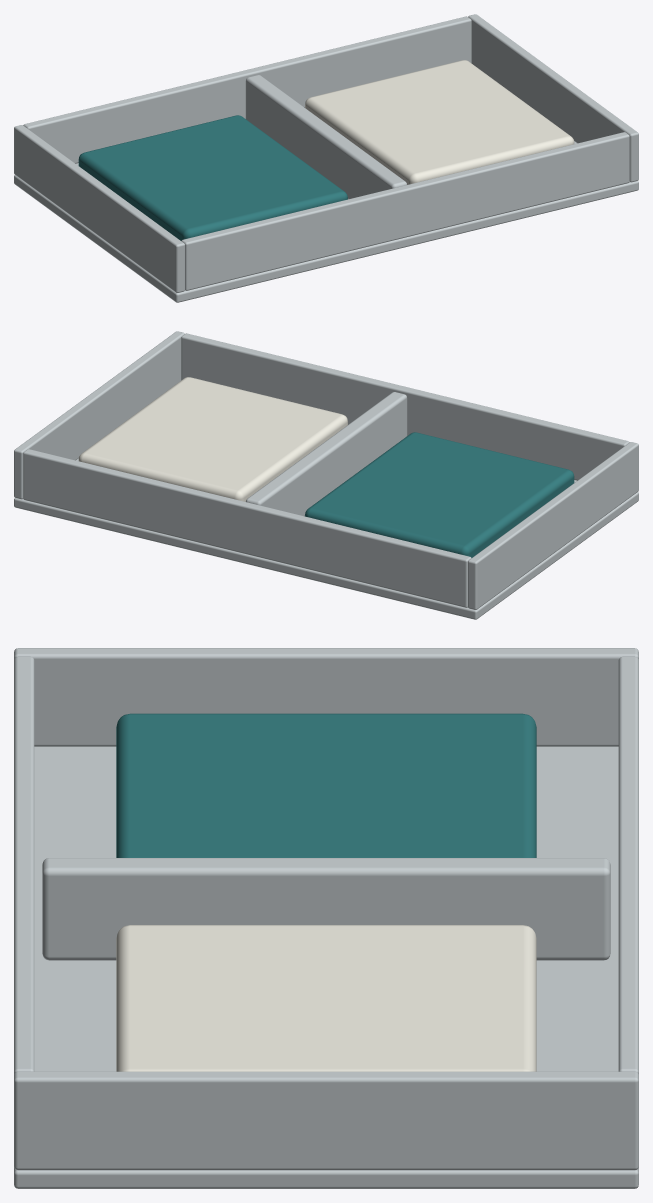
Rendered from tabletop-hobby-store-and-club-two-part-sculpting-putty-fd8455d9__31608.glb.
3 renders of one model, top to bottom at view 1: azimuth 30°, elevation 25°; view 2: azimuth 150°, elevation 25°; view 3: azimuth 270°, elevation 25°, orthographic. The views are drawn at different scales.
Visible parts, largest first — view 1: two-part-sculpting-putty-tray; view 2: two-part-sculpting-putty-tray; view 3: two-part-sculpting-putty-tray.
Part boxes in pixels (x1,y1,x2,y2): two-part-sculpting-putty-tray: (14,14,638,302); two-part-sculpting-putty-tray: (14,331,638,619); two-part-sculpting-putty-tray: (14,648,638,1188).
Size of the model in its own units: 0.09 by 0.0108 by 0.055.
